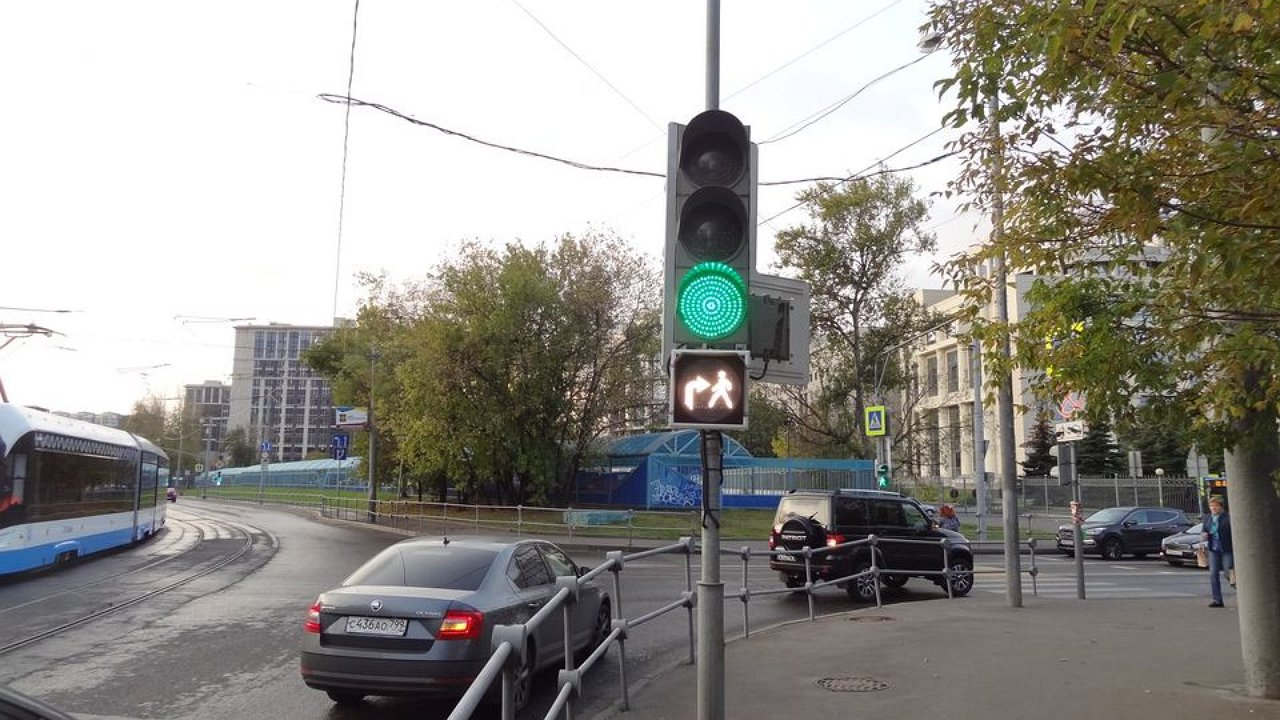tl: (661, 120, 814, 375)
